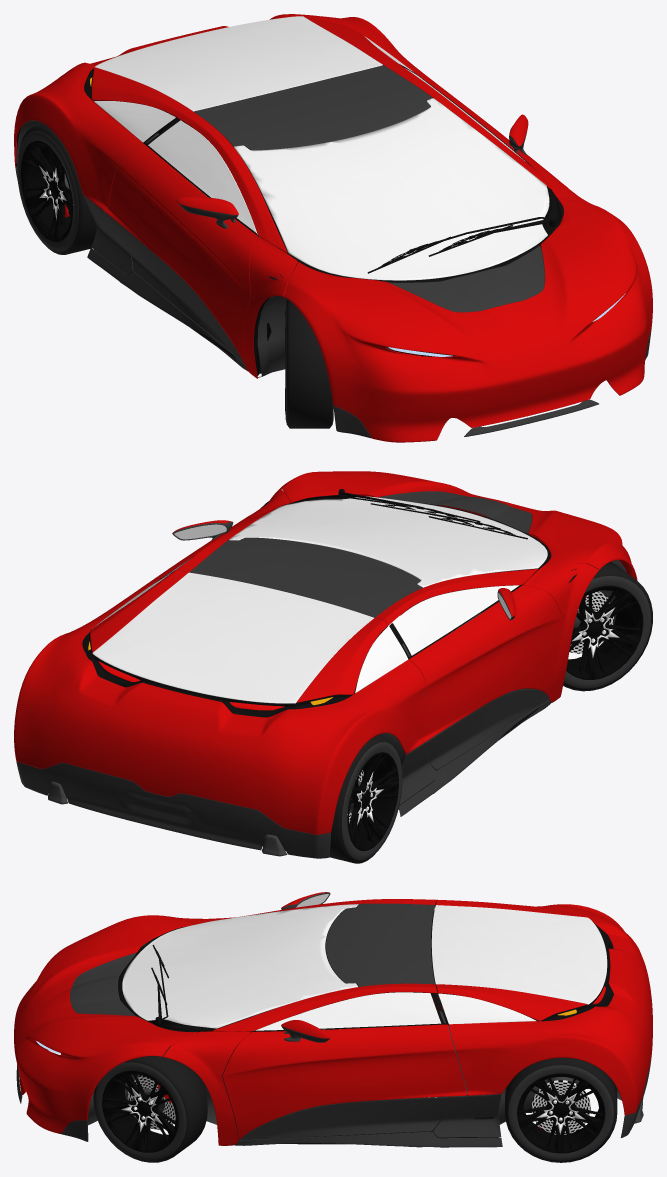
The model's file is lustro-car.glb.
3 views of the same model, one above another, from view 1: azimuth 30°, elevation 25°; view 2: azimuth 150°, elevation 25°; view 3: azimuth 270°, elevation 25° (orthographic). The views are drawn at different scales.
Parts seen in each view (by area): view 1: BodyHood, BodyWindshield, BodyRearwindow, BodyDoorRColor1, BodyRearPanelsColor1, BodyRoofPanel, BodyPillars, BodyPanelsColor2, BodyHoodTopgrill, WheelFrontR, BodyDoorRWindow, WheelRearRRim (+9 smaller); view 2: BodyRearPanelsColor1, BodyRearwindow, BodyWindshield, BodyPanelsColor2, BodyDoorRColor1, BodyRoofPanel, BodyHood, BodyPillars, WheelFrontRRim, BodyDoorRColor2, WheelRearRRim, BodyDoorRWindow (+7 smaller); view 3: BodyWindshield, BodyRearPanelsColor1, BodyDoorLColor1, BodyHood, BodyRearwindow, BodyRoofPanel, BodyPillars, BodyDoorLColor2, BodyPanelsColor2, WheelFrontL, WheelRearLRim, WheelFrontLRim (+12 smaller).
Boxes of the visible parts, x1,y1,x2,y2 form: BodyHood: (283, 198, 652, 442); BodyWindshield: (234, 98, 549, 280); BodyRearwindow: (94, 16, 382, 111); BodyDoorRColor1: (104, 143, 257, 362); BodyRearPanelsColor1: (14, 14, 428, 210); BodyRoofPanel: (193, 65, 432, 150); BodyPillars: (176, 61, 598, 378); BodyPanelsColor2: (15, 163, 651, 438); BodyHoodTopgrill: (388, 245, 544, 312); WheelFrontR: (285, 299, 333, 428); BodyDoorRWindow: (148, 120, 257, 234); WheelRearRRim: (20, 140, 73, 241); BodyRearPanelsColor1: (14, 569, 425, 834); BodyRearwindow: (92, 572, 373, 703); BodyWindshield: (229, 496, 547, 587); BodyPanelsColor2: (16, 700, 550, 858); BodyDoorRColor1: (409, 585, 562, 742); BodyRoofPanel: (189, 537, 422, 617); BodyHood: (279, 471, 637, 580); BodyPillars: (175, 489, 599, 702); WheelFrontRRim: (566, 585, 643, 679); BodyDoorRColor2: (424, 688, 549, 769); WheelRearRRim: (347, 752, 398, 850); BodyDoorRWindow: (392, 585, 519, 655); BodyWindshield: (122, 904, 358, 1028); BodyRearPanelsColor1: (436, 899, 652, 1115); BodyDoorLColor1: (222, 1024, 467, 1139); BodyHood: (14, 915, 196, 1133); BodyRearwindow: (431, 905, 607, 1004); BodyRoofPanel: (326, 903, 434, 986); BodyPillars: (163, 899, 437, 1145); BodyDoorLColor2: (240, 1096, 467, 1140); BodyPanelsColor2: (16, 1050, 652, 1147); WheelFrontL: (93, 1050, 207, 1162); WheelRearLRim: (517, 1073, 605, 1153); WheelFrontLRim: (102, 1070, 178, 1152).
Bounding box in the file's own units: 2.54 × 1.15 × 4.36.
21 materials, 1 textured.
